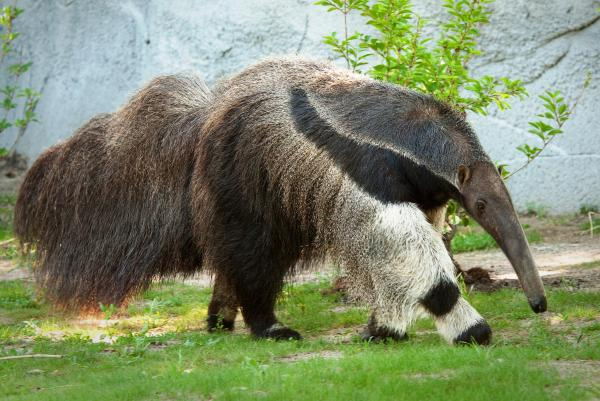TamanduaBandeira: (9, 54, 554, 353)
